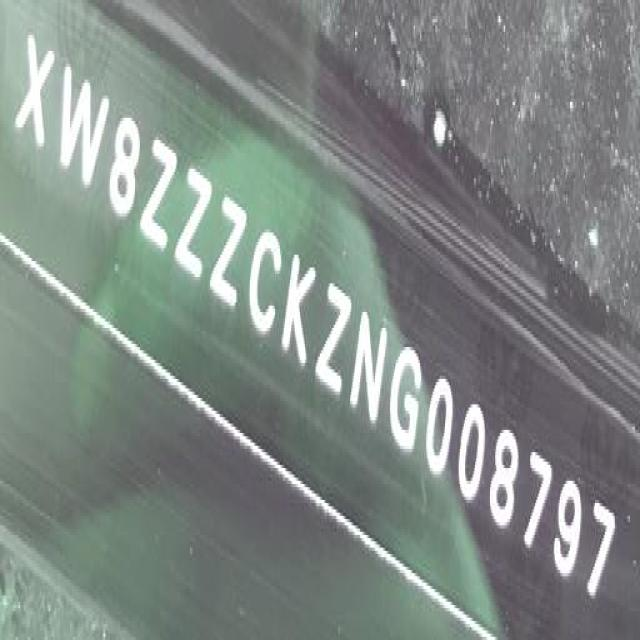0: (419, 363, 459, 488), (452, 391, 492, 511)
7: (583, 492, 627, 618), (515, 443, 556, 561)
8: (106, 101, 144, 225), (489, 424, 518, 528)
9: (548, 472, 590, 594)
C: (245, 224, 289, 342)
G: (390, 337, 420, 459)
K: (278, 246, 322, 378)
N: (344, 296, 396, 436)
W: (53, 64, 113, 202)
X: (11, 22, 58, 157)
Z: (206, 189, 254, 313), (138, 130, 184, 258), (172, 162, 218, 288), (311, 280, 354, 406)
